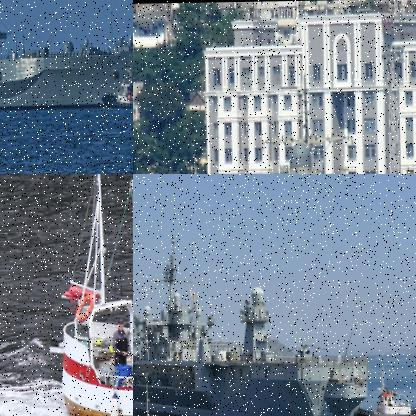Fishing Boat: (57, 174, 132, 415)
Military Ship: (133, 232, 369, 415), (223, 70, 415, 173), (0, 0, 132, 113)
Tugboat: (352, 366, 415, 415), (100, 53, 132, 109)
